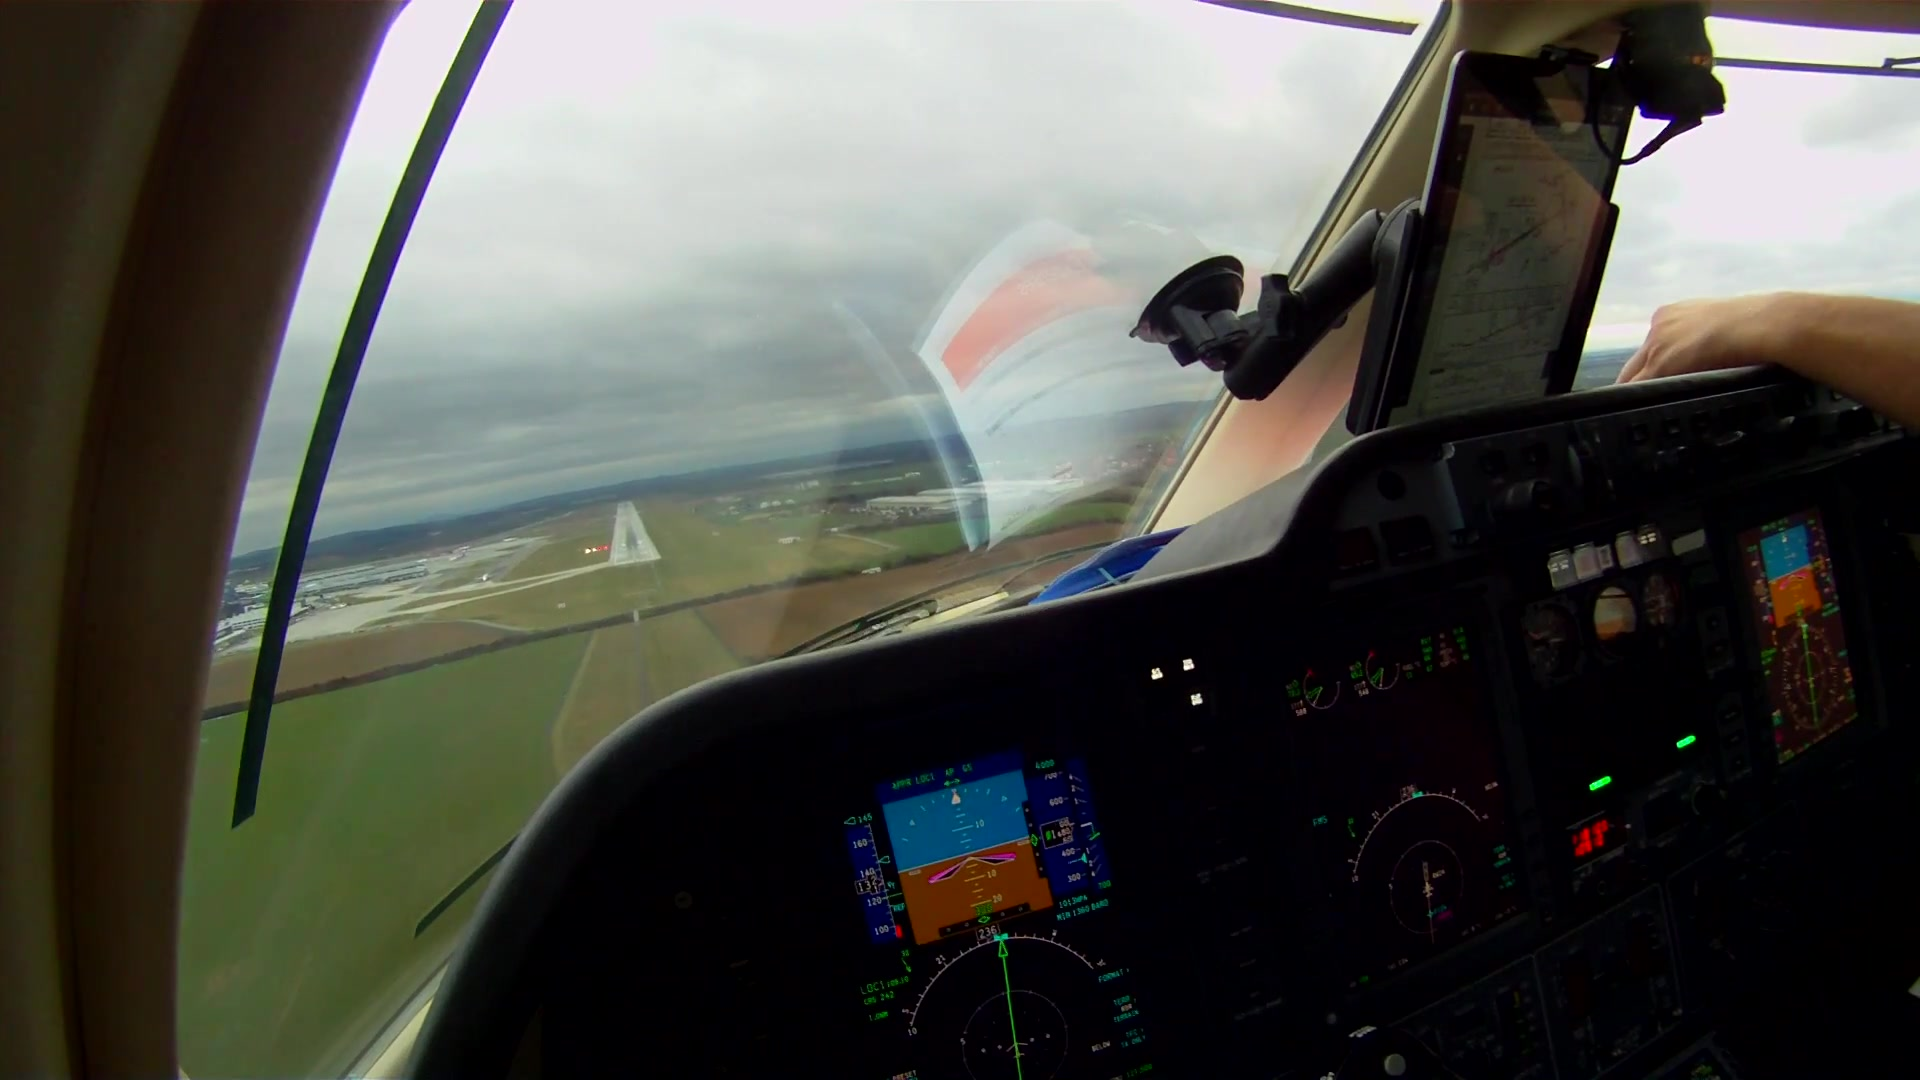runway: (607, 498, 666, 564)
